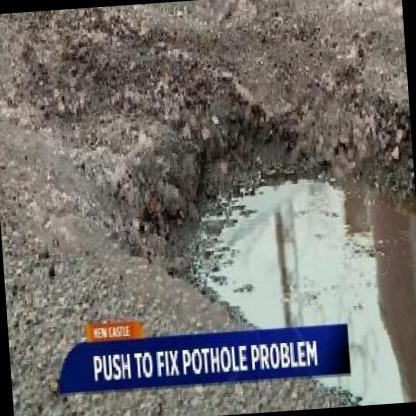pothole: (94, 67, 416, 416)
